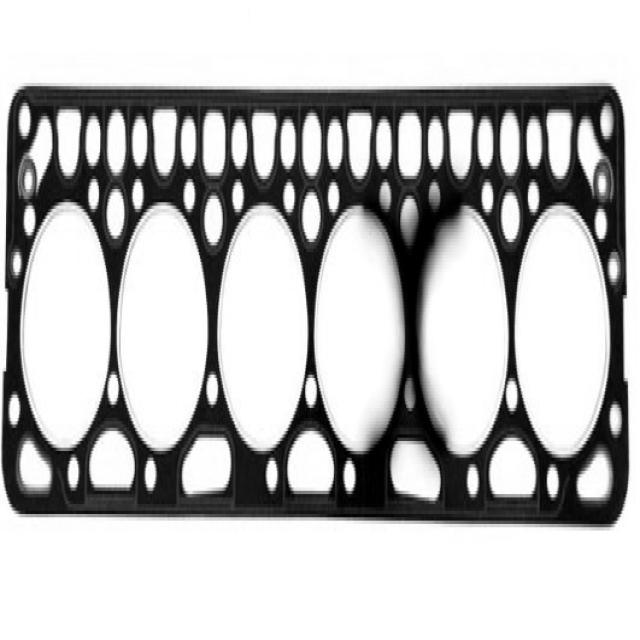burnt: (384, 137, 446, 530)
